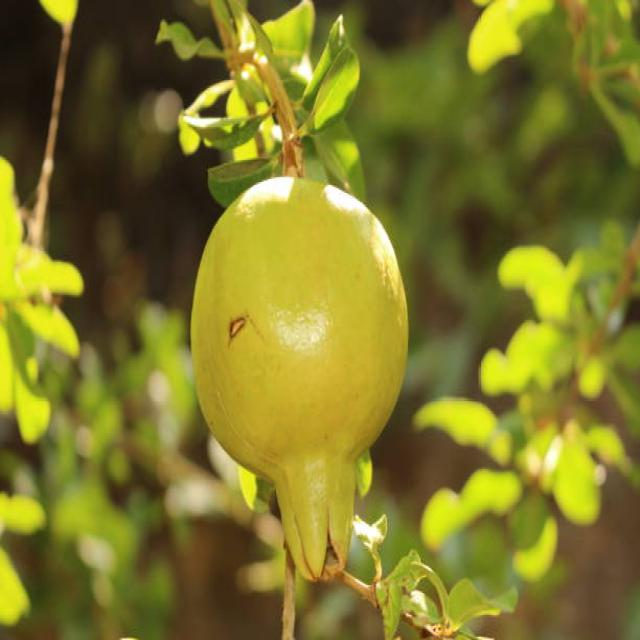Unripe: (190, 171, 408, 582)
